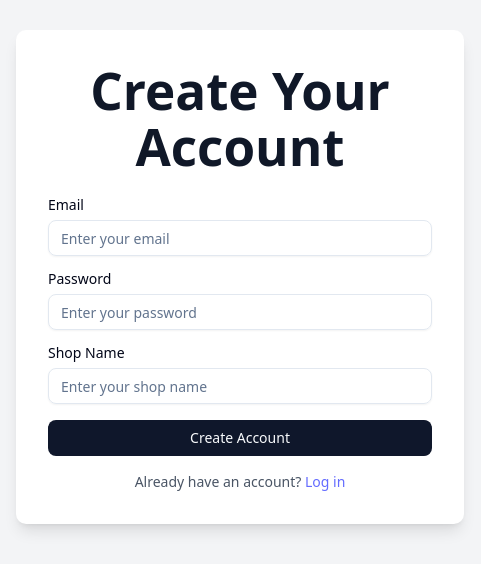
it: RegistrationForm › Form Validation › shows error when shop name is empty
Type "test@example.com" into the field labelled "Email".
click(240, 238); type("test@example.com")  # box [48, 220, 432, 256]
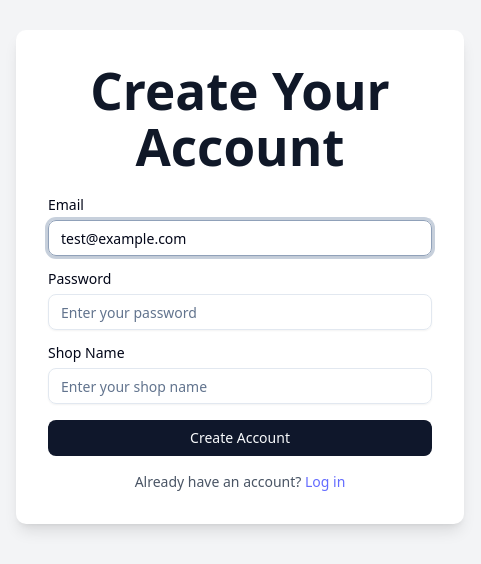
Type "password123" into the password field labelled "Password".
click(240, 312); type("password123")  # box [48, 294, 432, 330]
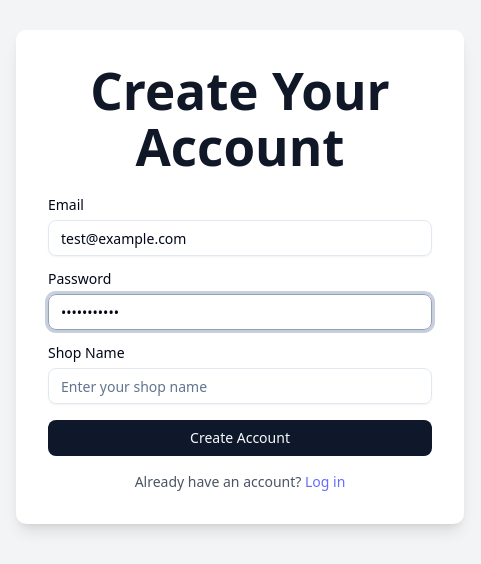
Click the button "Create Account".
click(240, 438)  # box [48, 420, 432, 456]
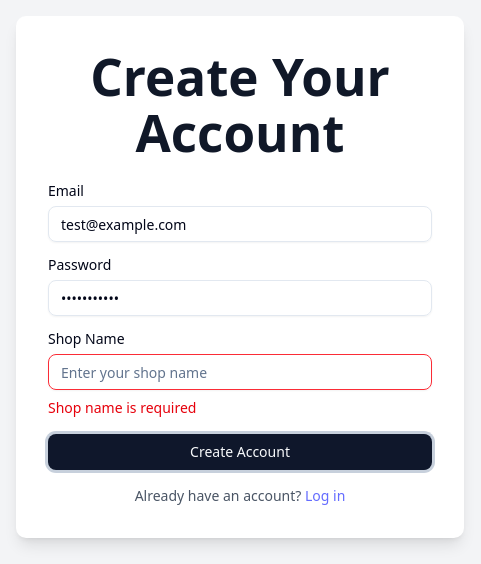
Check: the text "Shop name is required" is shown, box [48, 398, 196, 417]
